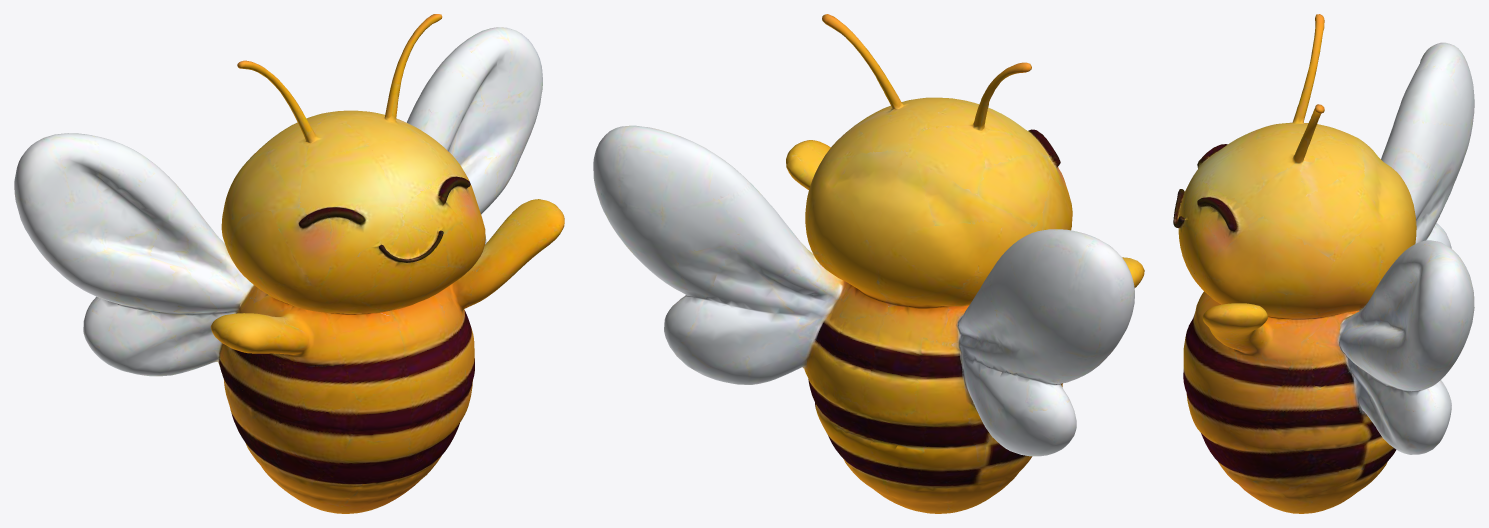
The picture shows the model from 3 angles, left to right: view 1: azimuth 30°, elevation 25°; view 2: azimuth 150°, elevation 25°; view 3: azimuth 270°, elevation 25°; orthographic projection. The views are drawn at different scales.
Bounding box in the file's own units: 1.9 × 1.62 × 0.9863.
Materials: 1 (1 with a texture image).
